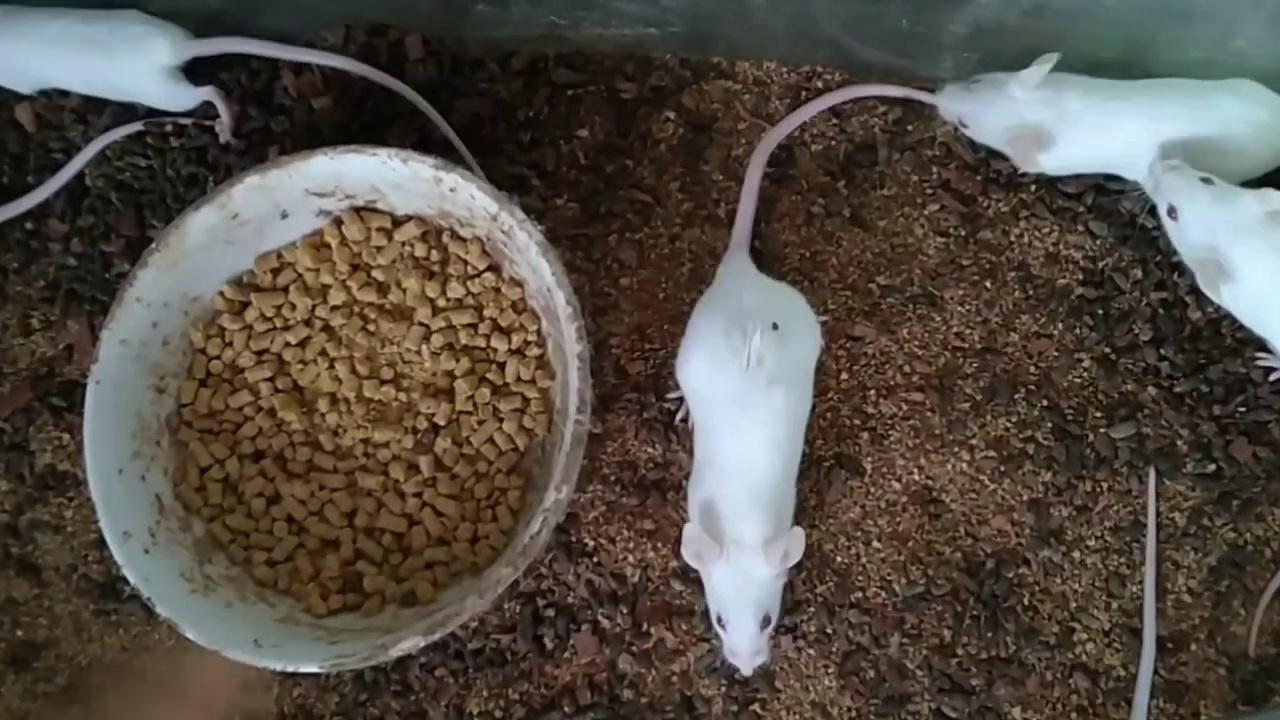rat: (666, 85, 936, 677), (0, 8, 489, 181), (939, 53, 1280, 187), (1141, 159, 1280, 381)
